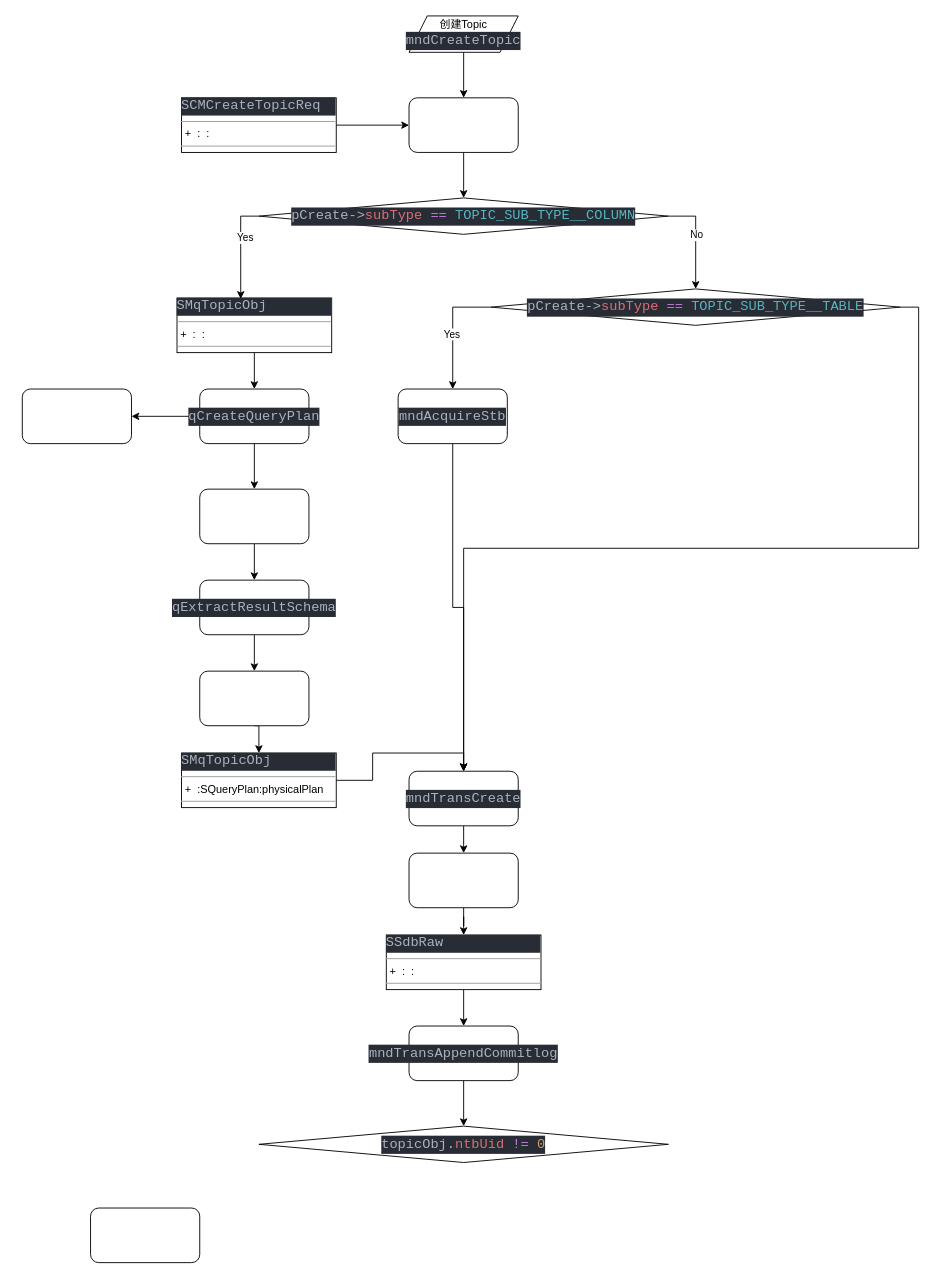
This 942x1279 diagram has some shape labels left out. Each missing label, with the centre of its shape:
createLogicPlan: the point at 76,416
extractTopicTbInfo: the point at 254,516
mndTopicActionEncode: the point at 463,880
nodesNodeToString: the point at 254,698
while ( 1 ) {: the point at 145,1235
通过信息组合成 SMqTopicObj: the point at 463,124
